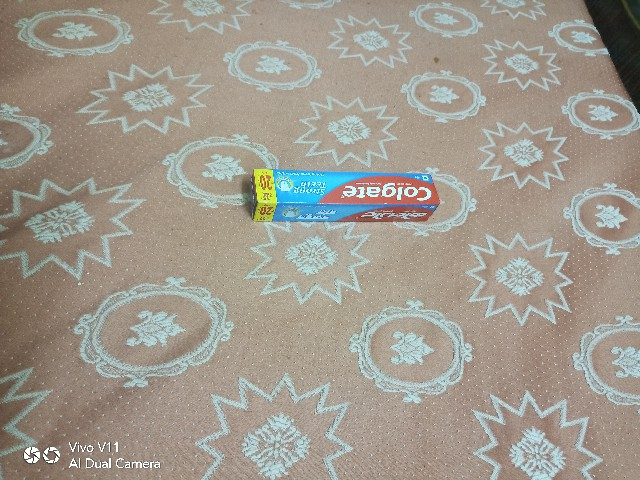colgatetoothpaste small: (245, 156, 459, 238)
